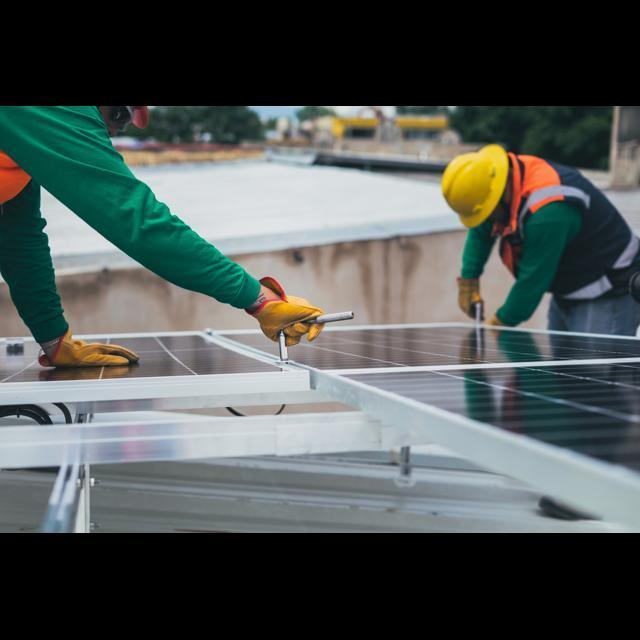helmet: (421, 132, 513, 226)
